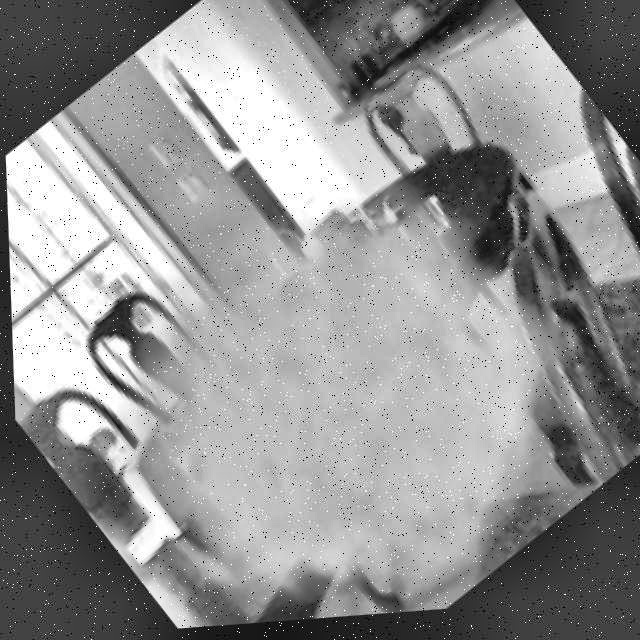Smoke: (13, 76, 640, 628)
